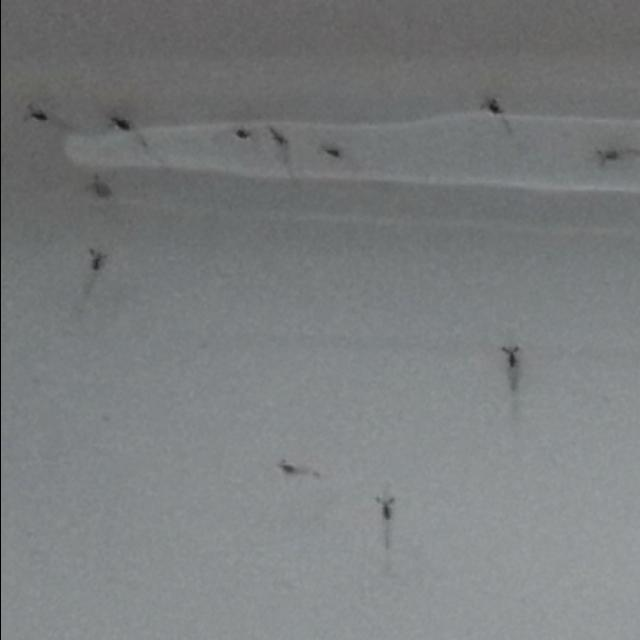shrimp-seed: (264, 124, 290, 156), (82, 172, 110, 200), (589, 146, 621, 170), (476, 95, 506, 119), (102, 110, 131, 134), (496, 342, 520, 371), (18, 102, 44, 128), (84, 248, 107, 276), (313, 141, 344, 161), (371, 496, 396, 520), (274, 461, 297, 478), (230, 126, 252, 142)
